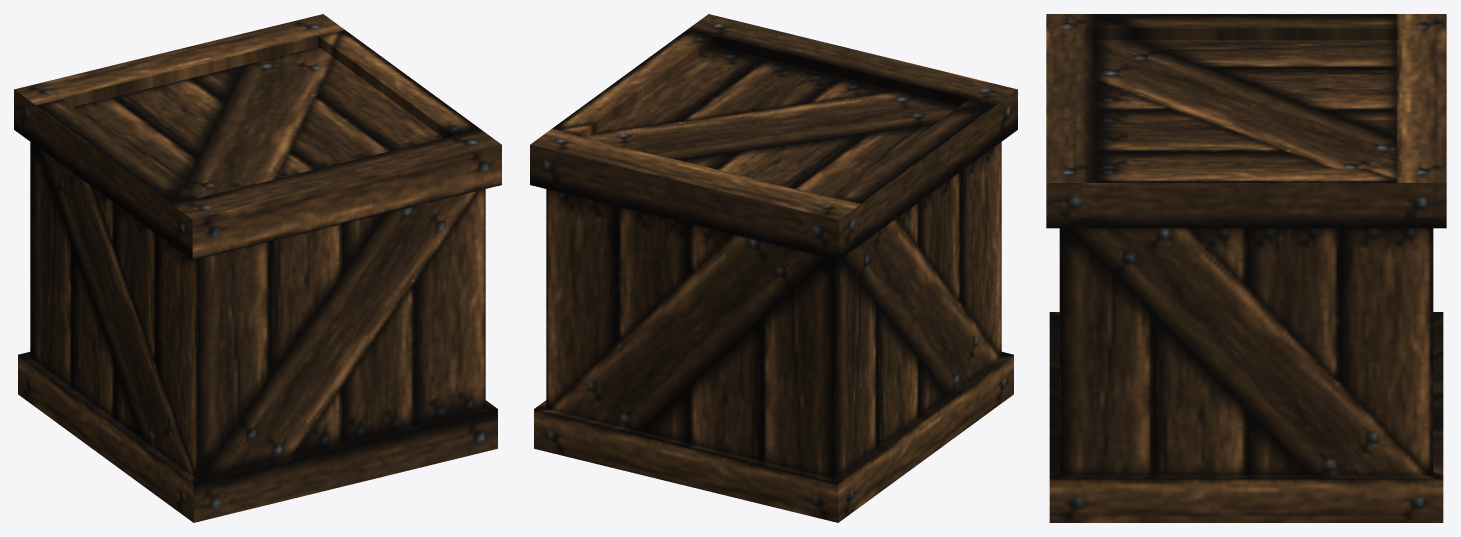
File: crate.fbx
3 renders of one model, left to right at view 1: azimuth 30°, elevation 25°; view 2: azimuth 150°, elevation 25°; view 3: azimuth 270°, elevation 25°, orthographic. The views are drawn at different scales.
Visible parts, largest first — view 1: Cube; view 2: Cube; view 3: Cube.
Boxes of the visible parts, left/top/right/bottom form: Cube: left=14, top=14, right=501, bottom=522; Cube: left=530, top=14, right=1017, bottom=522; Cube: left=1046, top=14, right=1446, bottom=522.
Bounding box in the file's own units: 214 × 202 × 214.
